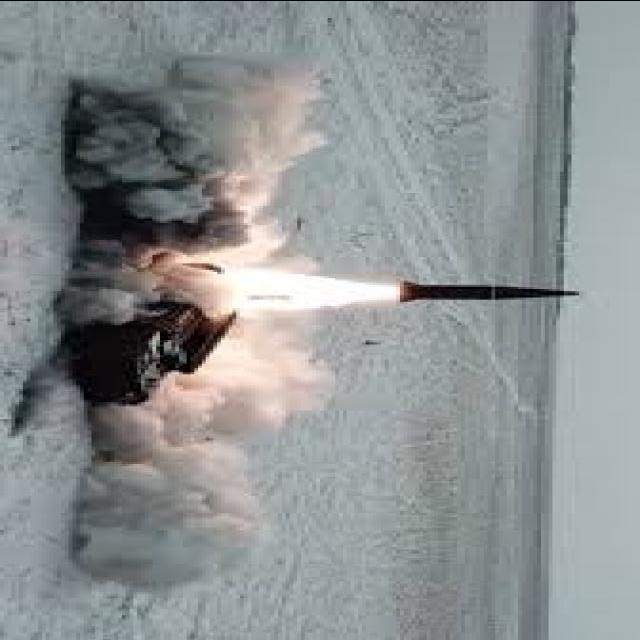missile: (387, 269, 593, 317)
